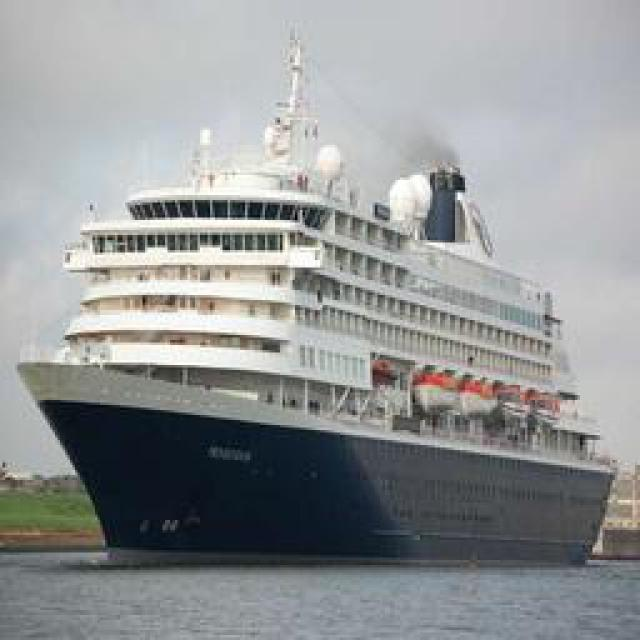Ship: (30, 77, 610, 557)
